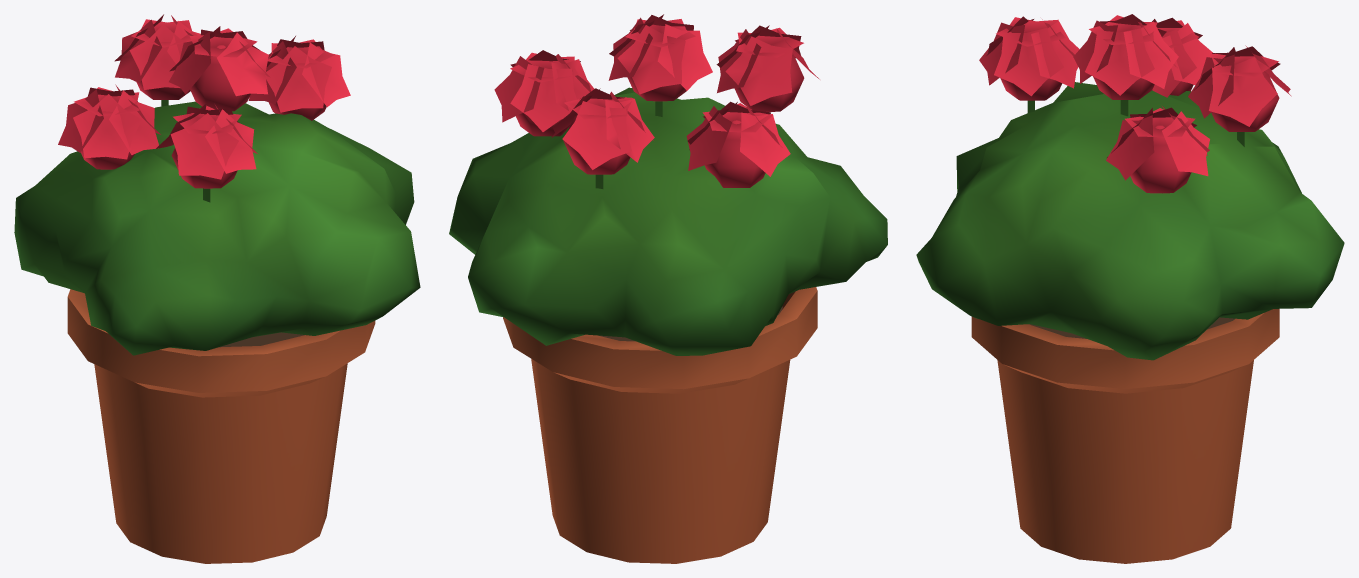
Rendered from flowerpot.glb.
The picture shows the model from 3 angles, left to right: view 1: azimuth 30°, elevation 25°; view 2: azimuth 150°, elevation 25°; view 3: azimuth 270°, elevation 25°; orthographic projection. The views are drawn at different scales.
Parts seen in each view (by area): view 1: Flowerpot Leaves, Flowerpot Terracotta, Flowerpot Geranium, Flowerpot Soil; view 2: Flowerpot Leaves, Flowerpot Terracotta, Flowerpot Geranium; view 3: Flowerpot Leaves, Flowerpot Terracotta, Flowerpot Geranium.
Boxes of the visible parts, left/top/right/bottom form: Flowerpot Leaves: left=14, top=100, right=420, bottom=355; Flowerpot Terracotta: left=67, top=289, right=375, bottom=563; Flowerpot Geranium: left=58, top=14, right=350, bottom=188; Flowerpot Soil: left=219, top=332, right=304, bottom=347; Flowerpot Leaves: left=449, top=87, right=887, bottom=355; Flowerpot Terracotta: left=503, top=287, right=817, bottom=563; Flowerpot Geranium: left=494, top=14, right=819, bottom=187; Flowerpot Leaves: left=916, top=82, right=1344, bottom=360; Flowerpot Terracotta: left=971, top=308, right=1279, bottom=563; Flowerpot Geranium: left=979, top=14, right=1291, bottom=193.
Bounding box in the file's own units: 0.5018 × 0.6638 × 0.5153.
